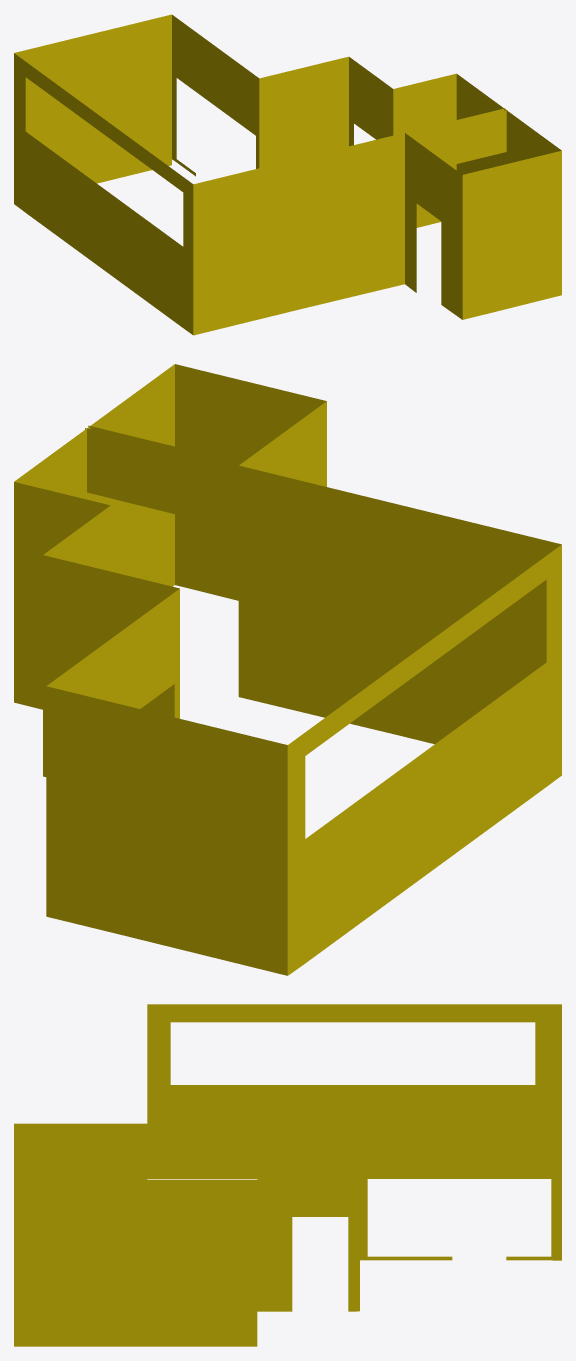
The picture shows the model from 3 angles, top to bottom: view 1: azimuth 30°, elevation 25°; view 2: azimuth 150°, elevation 25°; view 3: azimuth 270°, elevation 25°; orthographic projection. The views are drawn at different scales.
Parts seen in each view (by area): view 1: S_03_WP_04; view 2: S_03_WP_04; view 3: S_03_WP_04.
Part boxes in pixels (x1,y1,x2,y2): S_03_WP_04: [14, 14, 561, 335]; S_03_WP_04: [14, 364, 561, 975]; S_03_WP_04: [14, 1004, 561, 1346].
Bounding box in the file's own units: 897 × 417 × 1180.
